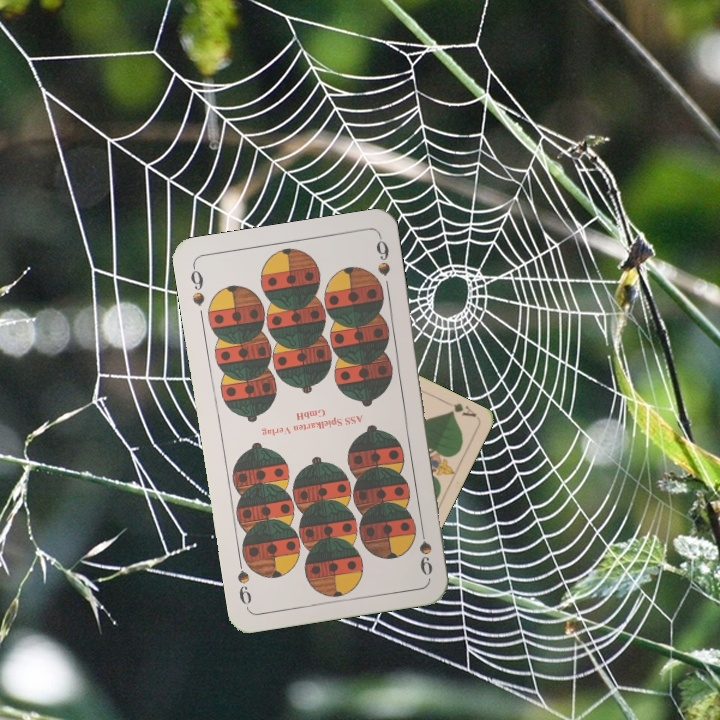GA: (445, 399, 479, 420)
S9: (415, 520, 435, 579), (186, 262, 207, 309)
